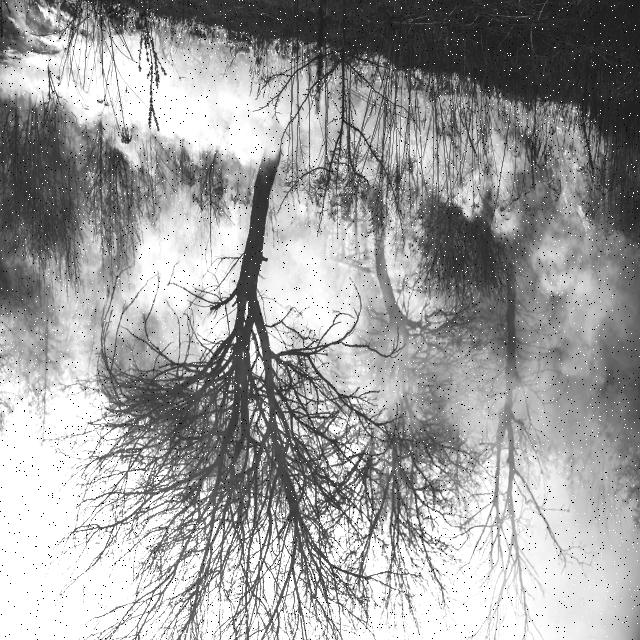api: (532, 90, 618, 218), (348, 202, 428, 282), (126, 14, 240, 66), (391, 69, 479, 124), (319, 53, 385, 99), (483, 78, 527, 146), (249, 33, 311, 79), (47, 1, 109, 39)
asap: (433, 228, 640, 637), (1, 190, 345, 388), (2, 81, 418, 189), (428, 152, 528, 268), (6, 29, 114, 79)
